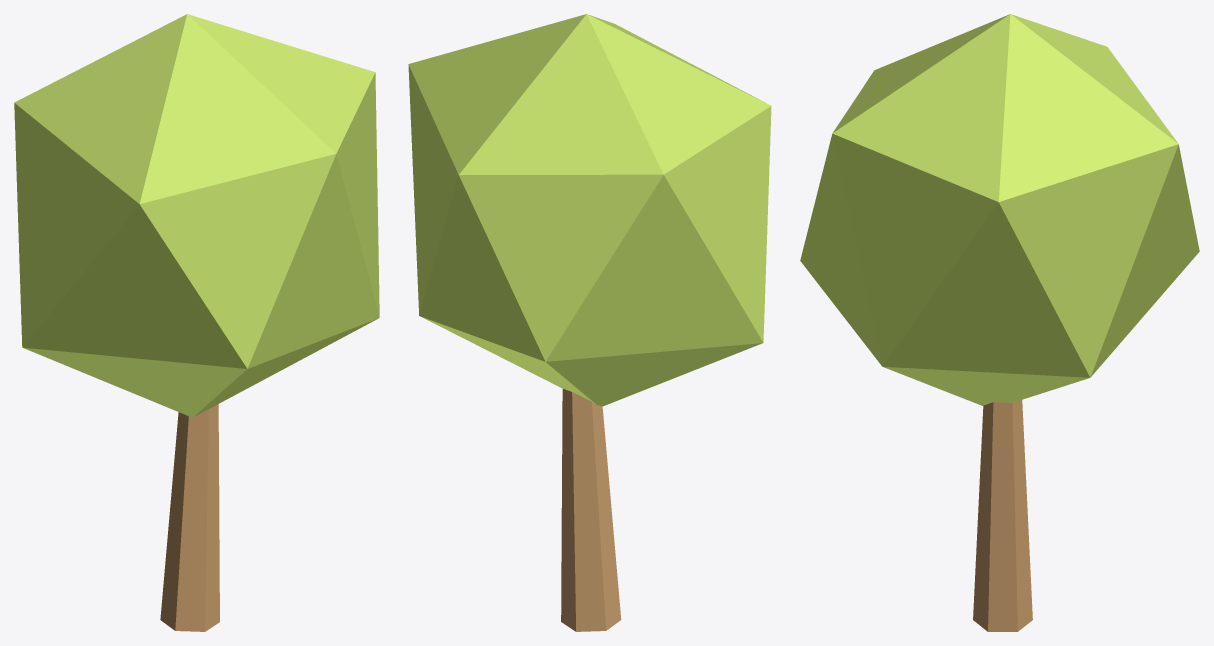
Rendered from Tree_Small.fbx.
3 views of the same model, side by side, from view 1: azimuth 30°, elevation 25°; view 2: azimuth 150°, elevation 25°; view 3: azimuth 270°, elevation 25° (orthographic).
Visible parts, largest first — view 1: Tree_Small; view 2: Tree_Small; view 3: Tree_Small.
Boxes of the visible parts, x1,y1,x2,y2 form: Tree_Small: [14, 14, 379, 631]; Tree_Small: [408, 14, 771, 631]; Tree_Small: [800, 14, 1199, 631].
Size of the model in its own units: 0.955 by 1.57 by 0.9337.
